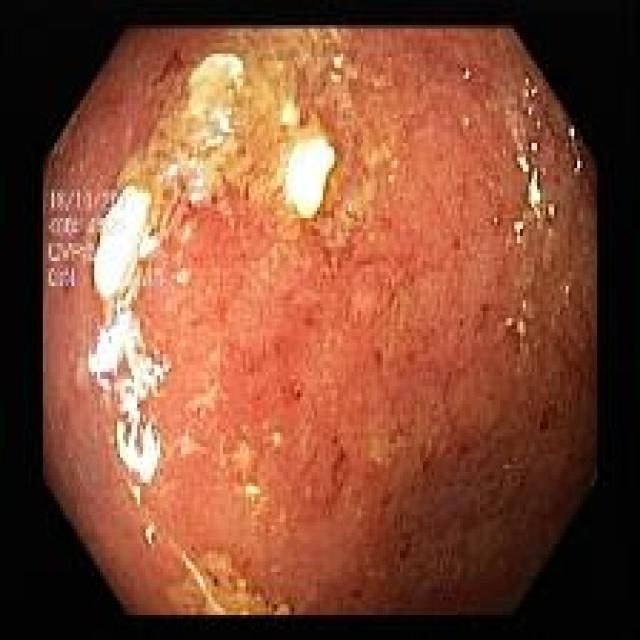ulcerative-colitis: (45, 28, 596, 616)
